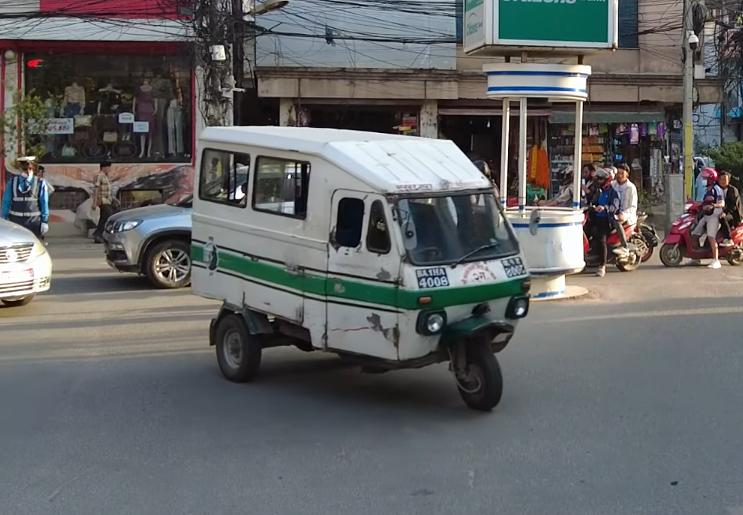scooter: (658, 195, 743, 266)
tempo: (188, 125, 535, 414)
